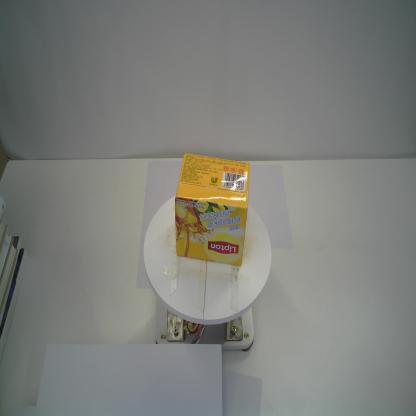Instant Drink: (173, 152, 251, 267)
